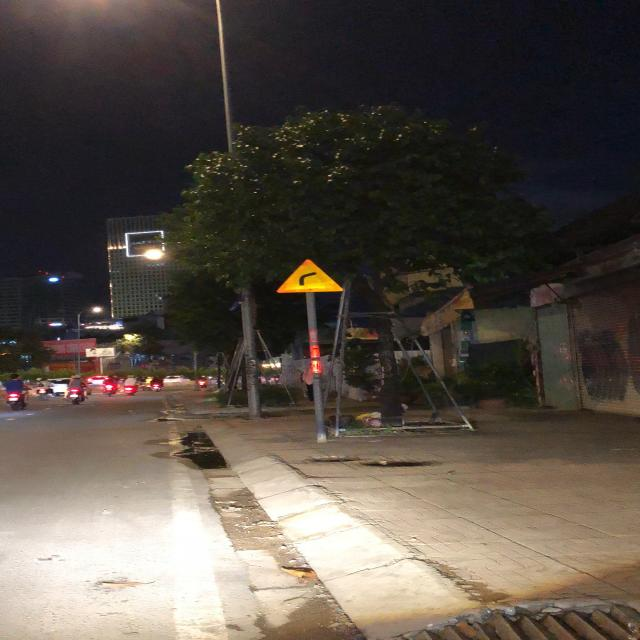Bien bao cho ngoat nguy hiem: (273, 256, 346, 291)
